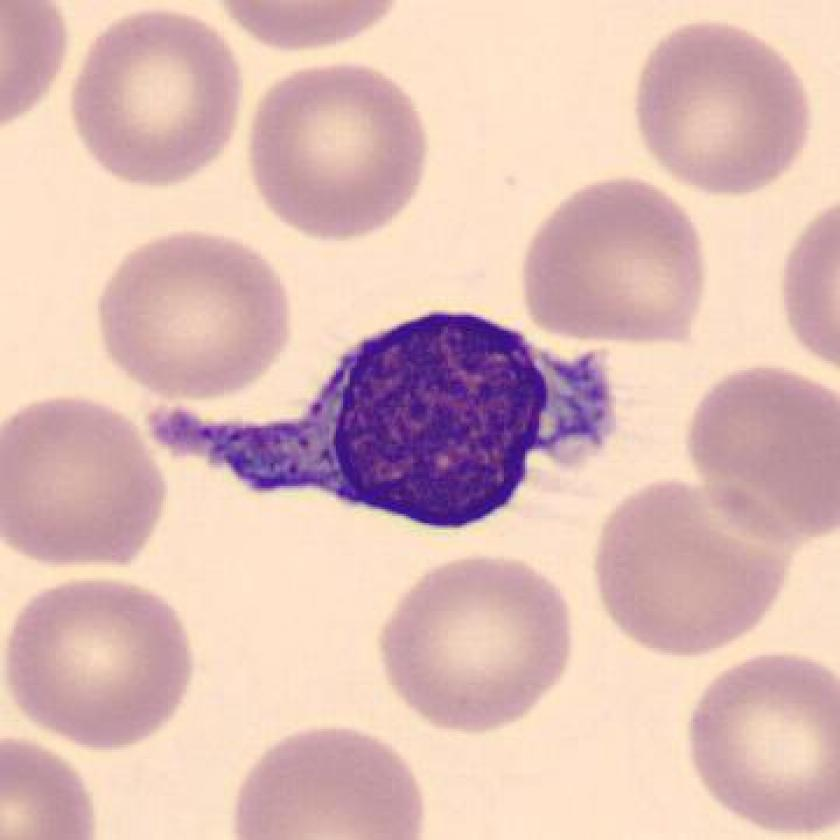lymphocyte: (129, 293, 631, 550)
